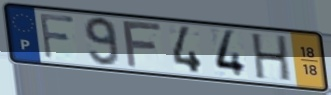4: (212, 27, 248, 80), (171, 24, 205, 75)
9: (82, 15, 122, 69)
F: (120, 20, 164, 70), (37, 12, 77, 61)
H: (251, 32, 293, 84)
